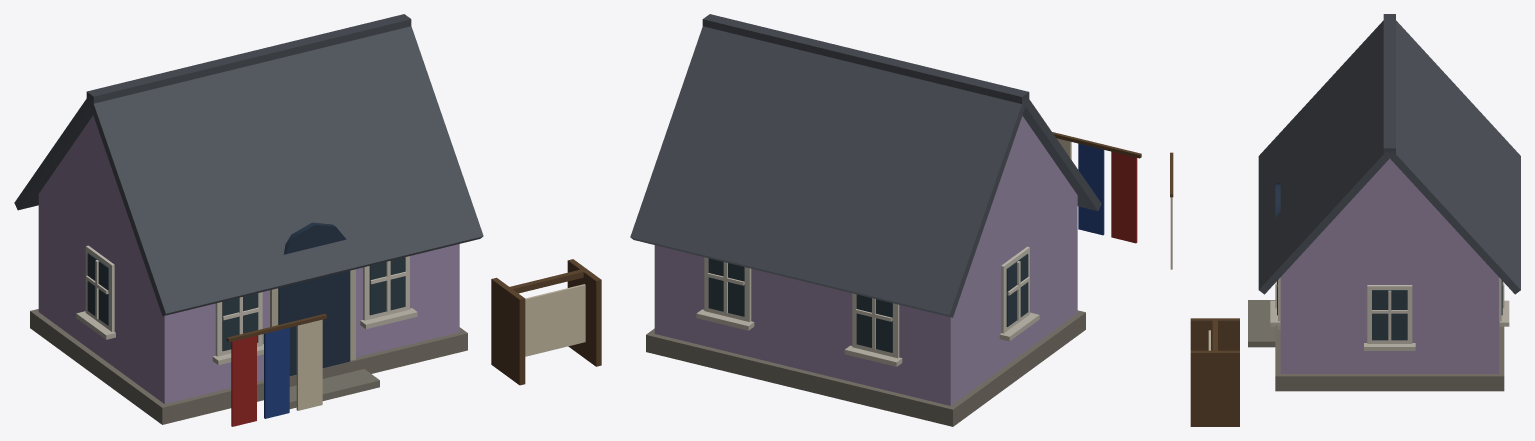
Rendered from procedural_silk_weaver@4.glb.
3 views of the same model, side by side, from view 1: azimuth 30°, elevation 25°; view 2: azimuth 150°, elevation 25°; view 3: azimuth 270°, elevation 25° (orthographic). The views are drawn at different scales.
Visible parts, largest first — view 1: part_0; view 2: part_0; view 3: part_0.
Boxes of the visible parts, x1=… form: part_0: x1=14, y1=14, x2=601, y2=426; part_0: x1=630, y1=14, x2=1141, y2=426; part_0: x1=1170, y1=14, x2=1520, y2=426.
Bounding box in the file's own units: 7.26 × 4.97 × 6.43.
